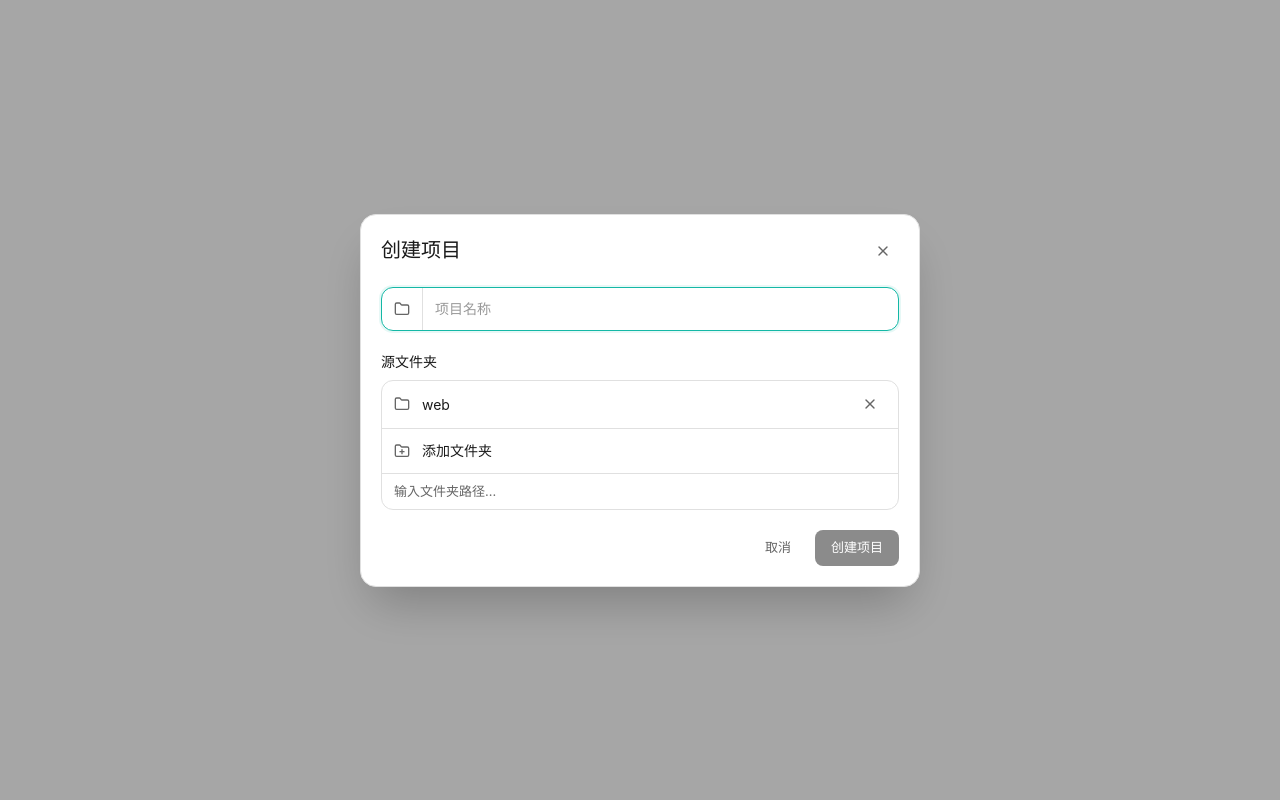
Test: LocalProjectCreateDialog › local Electron cancellation preserves existing roots and the manual path entry remains available
The width and height of the screenshot is (1280, 800).
What coordinates should you click on to do the following:
click the button with test id "add-local-project-create-folders"
I would click on:
 (457, 450)
Its box is [382,428,898,472].
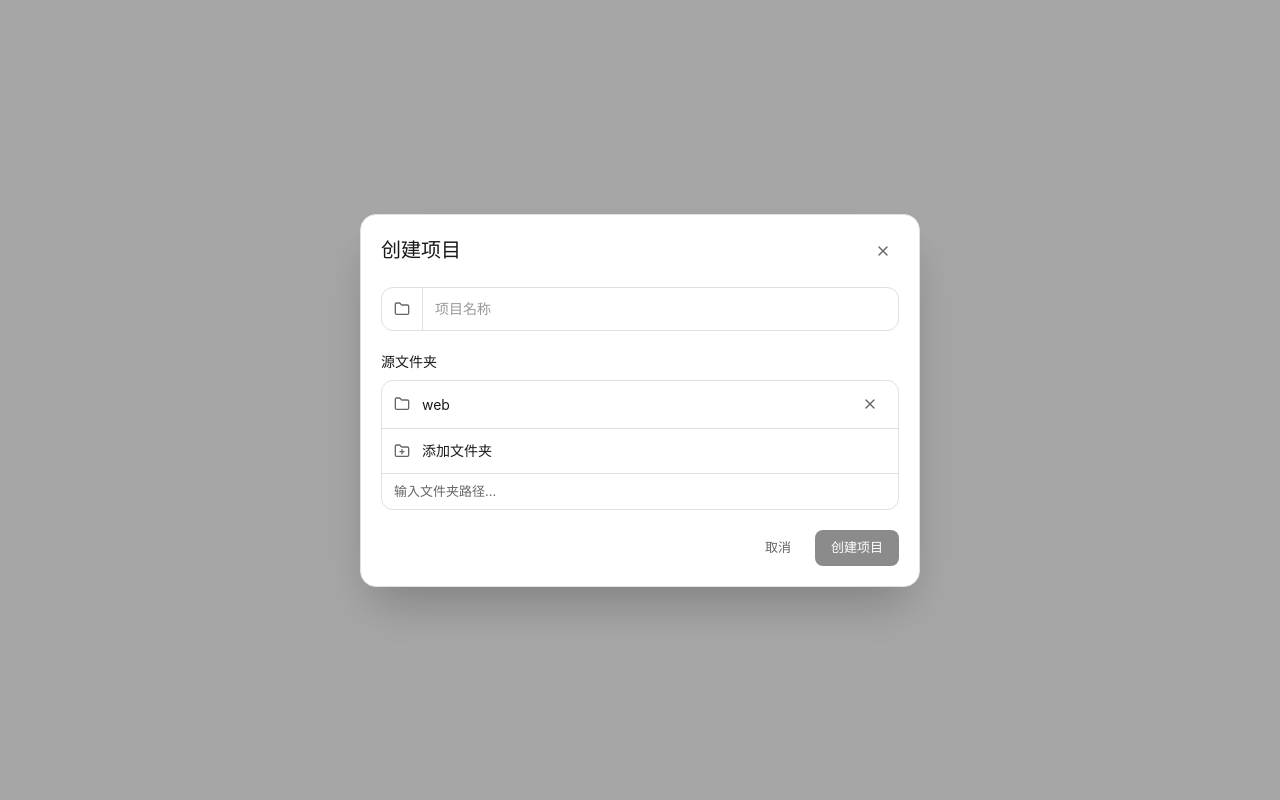
Expected: the element with test id "local-project-create-root-0" reads "web", [422,396,450,412]
What coordinates should you click on to do the following:
click the button with test id "local-project-create-enter-path"
I would click on:
 (445, 491)
Its box is [382,472,898,508].
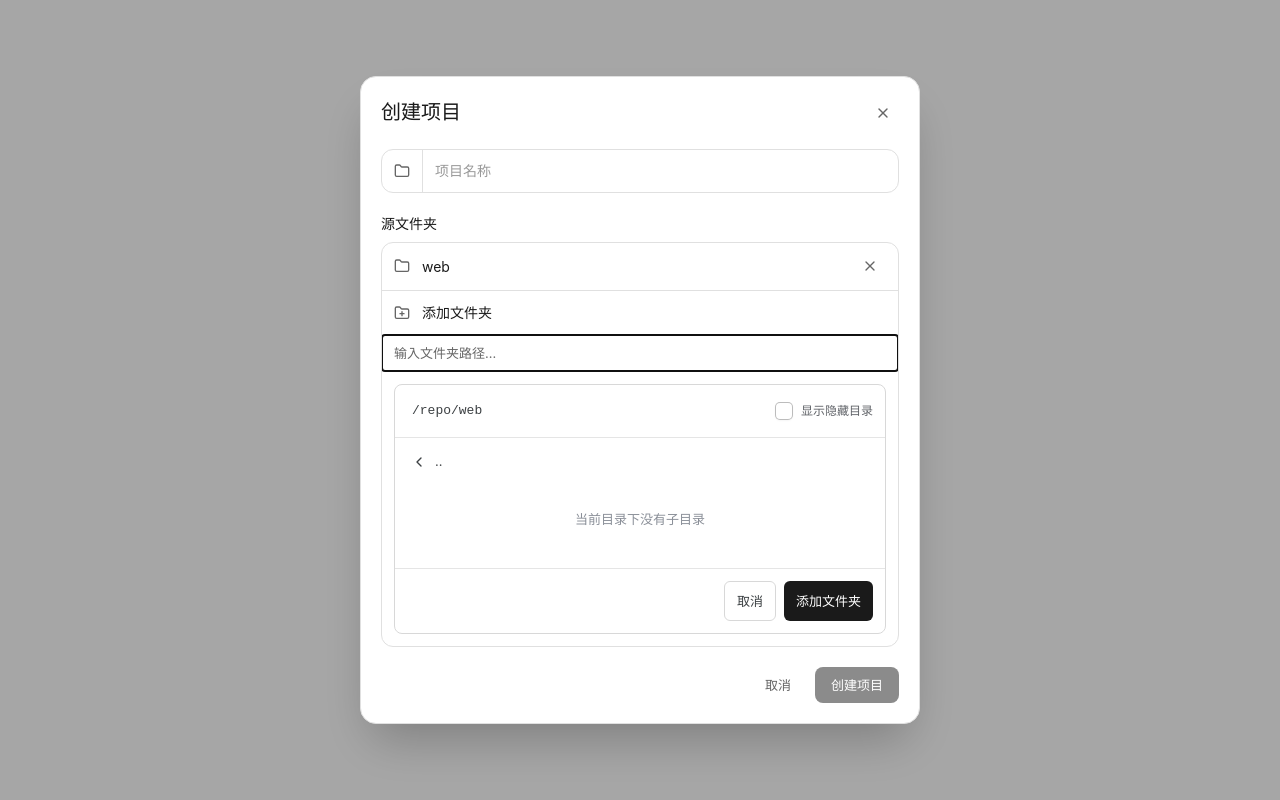
Now the element with test id "local-project-create-folder-picker" is shown, box [382,371,898,646]
